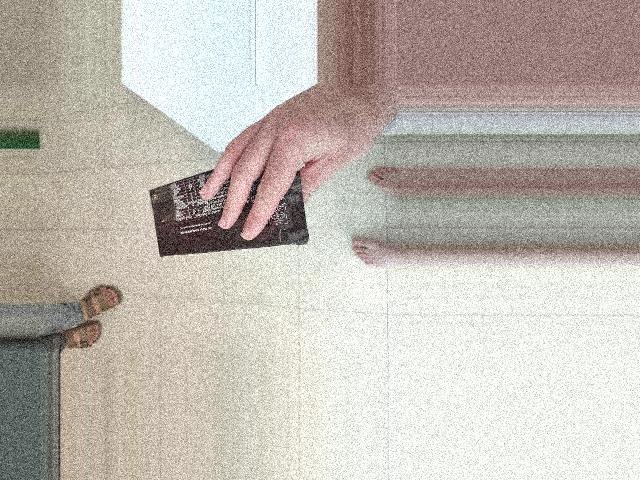chocolate: (128, 188, 245, 353)
